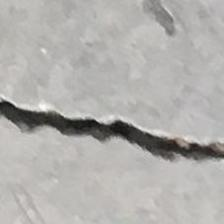Crack: (0, 86, 224, 166)
